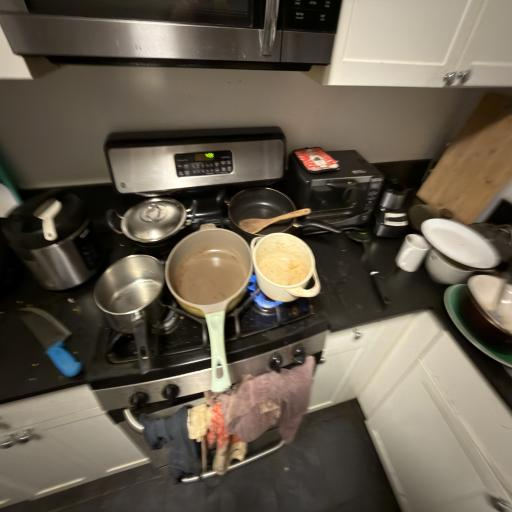Flame: (242, 274, 289, 314)
Pan: (168, 224, 254, 404), (92, 252, 173, 389), (218, 186, 313, 255), (95, 191, 205, 246), (245, 232, 329, 304)
knife: (13, 302, 95, 386)
